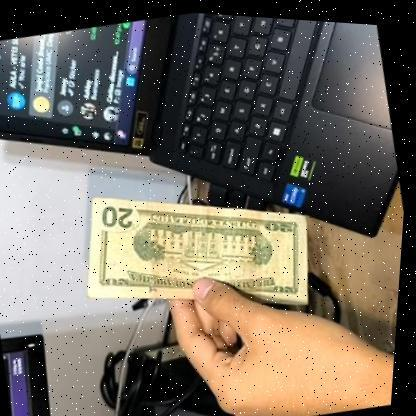twenty-back: (66, 148, 331, 347)
